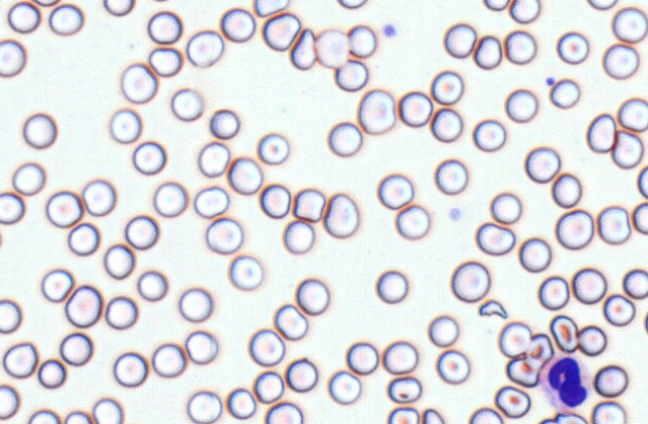GRAN: (539, 355, 596, 416)
PLT: (381, 24, 399, 38), (450, 207, 462, 221), (544, 76, 556, 86)
RBC: (357, 88, 396, 134), (450, 260, 490, 302), (64, 284, 102, 328), (323, 192, 359, 238), (555, 208, 594, 250), (261, 11, 301, 51), (185, 29, 224, 68), (120, 63, 157, 103), (205, 216, 243, 254), (248, 328, 285, 366), (45, 190, 82, 228), (227, 156, 263, 195), (314, 28, 349, 68), (475, 221, 515, 255), (2, 341, 38, 378), (571, 267, 607, 304), (397, 90, 433, 127), (524, 146, 560, 183), (394, 203, 430, 240), (611, 6, 647, 43), (602, 43, 639, 79), (81, 178, 116, 216), (597, 205, 631, 244), (377, 173, 413, 209), (112, 351, 148, 387), (497, 321, 532, 358), (228, 254, 263, 291), (295, 277, 329, 315), (611, 129, 643, 169), (151, 342, 186, 378), (152, 181, 187, 217), (178, 286, 213, 322), (220, 7, 256, 42), (274, 303, 308, 340), (434, 158, 468, 195), (22, 112, 56, 149), (435, 349, 470, 384), (327, 121, 362, 156), (382, 340, 418, 374), (124, 214, 158, 250), (494, 385, 531, 418), (59, 331, 93, 366), (104, 295, 138, 330), (504, 88, 538, 123), (132, 140, 166, 175), (147, 10, 182, 44), (518, 236, 551, 272), (186, 390, 222, 423), (193, 185, 229, 218), (443, 22, 476, 58), (197, 141, 230, 177), (109, 107, 142, 143), (586, 113, 616, 152), (40, 268, 74, 302), (345, 341, 379, 375), (327, 370, 361, 404), (184, 330, 218, 364), (472, 118, 506, 152), (292, 187, 325, 222), (593, 364, 628, 397), (285, 357, 318, 392), (282, 219, 315, 254), (430, 70, 463, 105), (503, 29, 536, 64), (103, 243, 135, 279), (289, 28, 316, 70), (549, 314, 578, 353), (67, 221, 100, 255), (12, 161, 45, 195), (375, 269, 408, 303), (537, 275, 569, 310), (259, 183, 291, 218), (430, 107, 462, 142), (48, 3, 83, 35), (551, 172, 582, 208), (602, 293, 635, 326), (556, 31, 589, 64), (170, 88, 203, 121), (334, 59, 368, 91), (427, 314, 459, 347), (489, 191, 521, 224), (7, 1, 40, 33), (257, 132, 289, 165), (148, 46, 182, 77), (617, 97, 647, 132), (136, 269, 168, 301), (253, 370, 284, 403), (473, 34, 502, 69), (0, 38, 26, 77), (386, 375, 422, 403), (346, 24, 376, 57), (525, 332, 554, 366), (577, 324, 607, 356), (226, 387, 256, 419), (549, 78, 580, 108), (209, 108, 239, 139), (37, 358, 66, 389), (264, 401, 303, 423), (91, 397, 123, 423), (0, 191, 25, 224), (591, 400, 626, 423), (622, 268, 647, 299), (0, 298, 22, 333), (509, 0, 540, 23), (0, 383, 19, 419), (253, 0, 289, 17), (468, 406, 503, 423), (387, 406, 419, 423), (103, 0, 134, 16), (632, 201, 647, 234), (27, 409, 60, 423), (421, 407, 444, 423), (555, 412, 588, 423), (64, 410, 91, 423), (637, 165, 647, 198), (587, 0, 618, 10), (482, 0, 509, 11), (337, 0, 367, 9), (31, 0, 60, 6), (643, 310, 648, 335), (537, 417, 557, 423), (147, 0, 173, 2)
Schistocyte: (507, 359, 540, 388), (478, 300, 509, 319)
